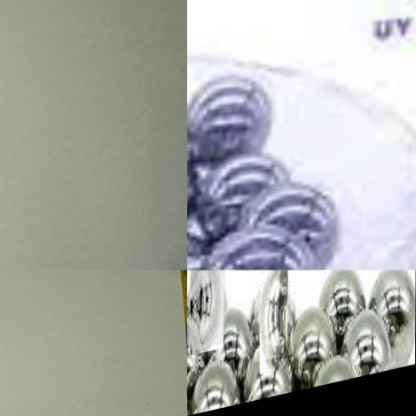ironball: (236, 180, 334, 267), (186, 68, 273, 152), (205, 219, 322, 270), (202, 153, 284, 204), (369, 270, 411, 366), (321, 270, 364, 362), (254, 270, 293, 365), (289, 307, 334, 375), (188, 270, 225, 351), (345, 304, 385, 374), (188, 358, 234, 415), (222, 306, 250, 387), (187, 306, 203, 405), (306, 354, 359, 383), (242, 368, 292, 397)
